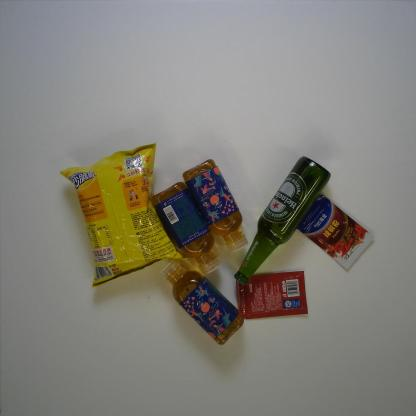Alcohol: (233, 155, 332, 286)
Drink: (159, 258, 245, 346), (149, 180, 223, 276), (182, 158, 250, 254)
Puffed Food: (59, 141, 190, 290)
Seasoner: (297, 192, 375, 270), (236, 272, 309, 320)
